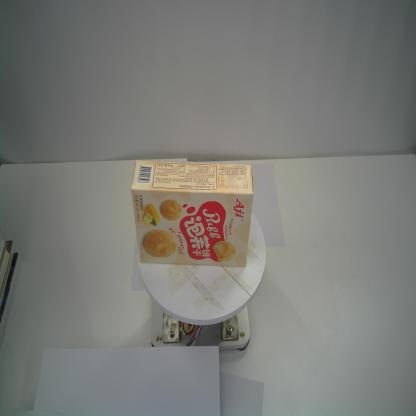Dessert: (130, 159, 254, 269)
